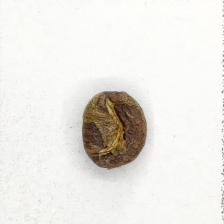NG: (84, 93, 144, 168)
